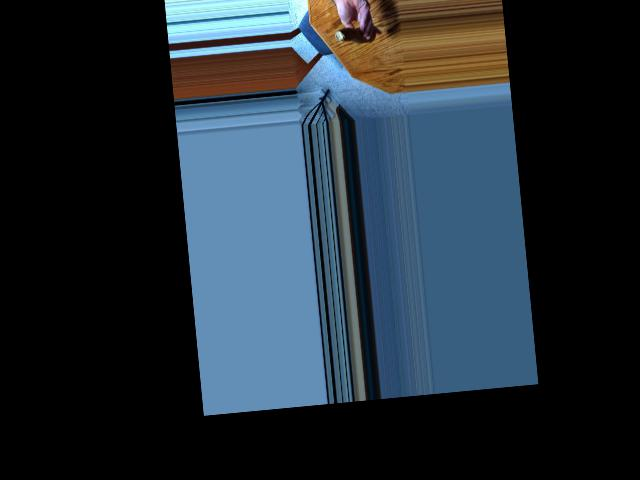sweet_potato: (341, 24, 374, 45)
